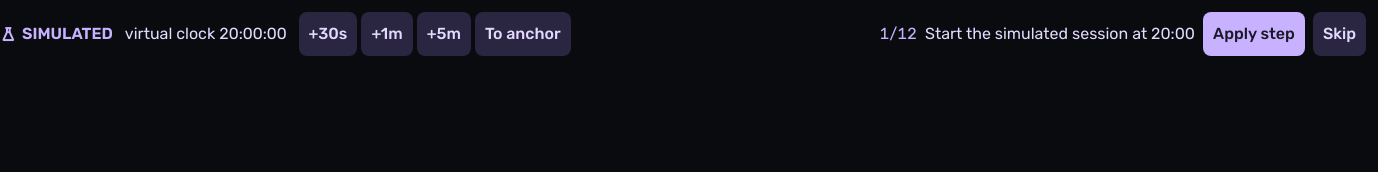
it: useSimulatorControls, shared by Operate and the Lab › offers the scenario script only where the desk asks for it, and shows what the script said
The width and height of the screenshot is (1378, 172).
Expected: the text with test id "sim-step-label" reads "Start the simulated session at 20:00", [925, 24, 1195, 43]
Click the button with test id "sim-apply-step" at (1254, 34), box [1203, 12, 1305, 56]
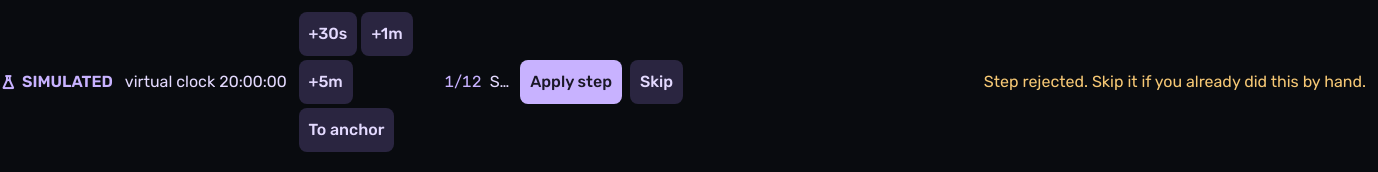
Expected: the message shows "Skip it if you already did this by hand.", [984, 72, 1366, 91]
Click the button with test id "sim-skip-step" at (657, 82), box [630, 60, 683, 104]
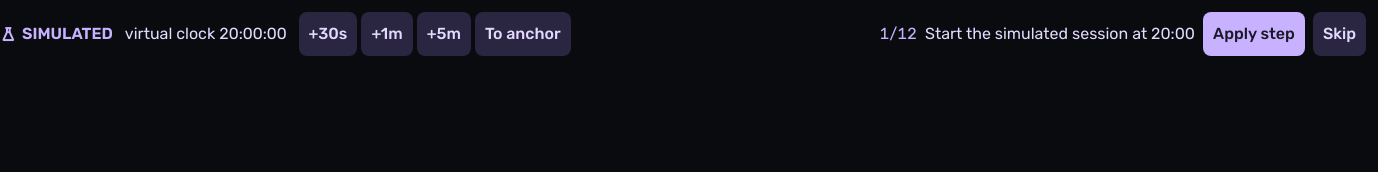
Expected: the message "Step rejected. Skip it if you already did this by hand." is gone
